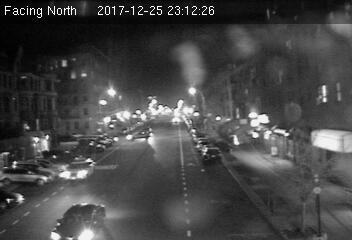car: (49, 201, 108, 240), (61, 156, 96, 180)
